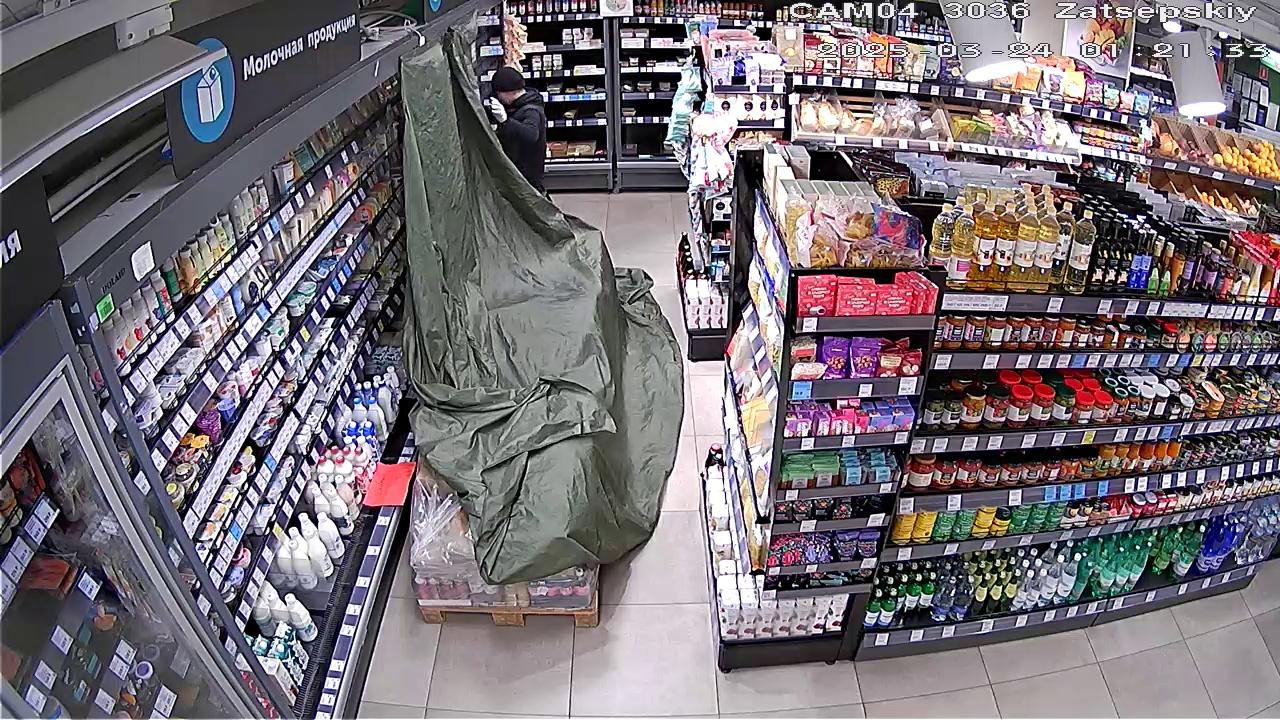Human: (475, 62, 568, 185)
dome: (405, 52, 675, 559)
